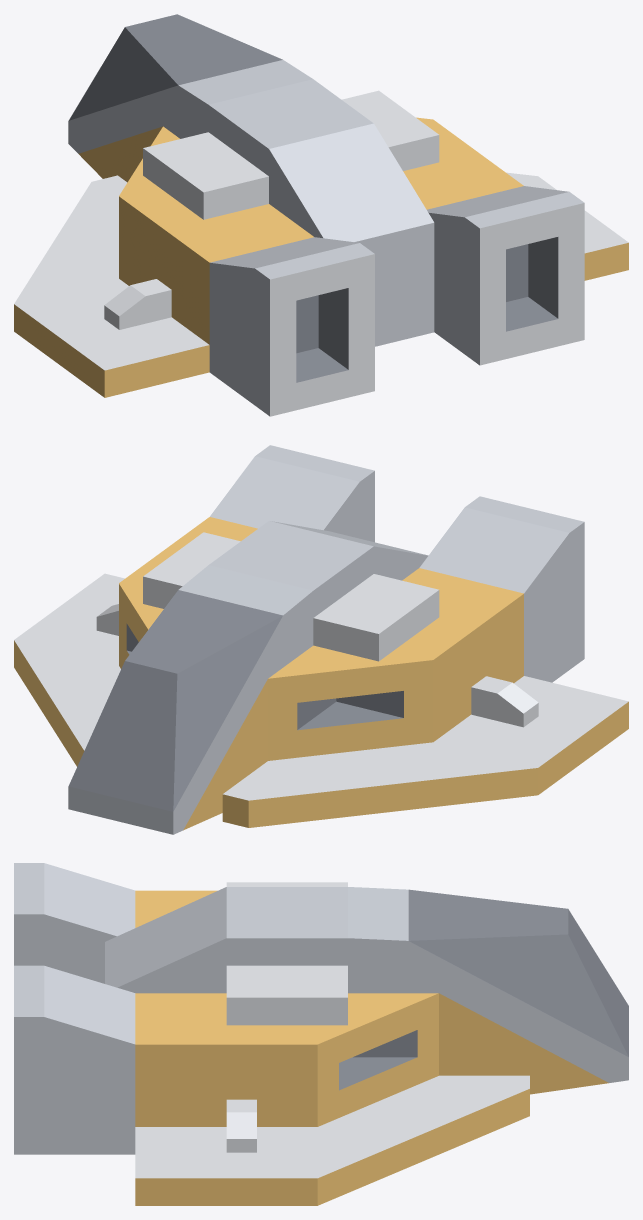
File: craft_speederB.glb
3 views of the same model, one above another, from view 1: azimuth 30°, elevation 25°; view 2: azimuth 150°, elevation 25°; view 3: azimuth 270°, elevation 25° (orthographic).
Parts seen in each view (by area): view 1: craft_speederB; view 2: craft_speederB; view 3: craft_speederB.
Part boxes in pixels (x1,y1,x2,y2): craft_speederB: [14, 14, 628, 416]; craft_speederB: [14, 445, 628, 834]; craft_speederB: [14, 863, 628, 1205].
Size of the model in its own units: 2 by 0.6 by 2.03.
